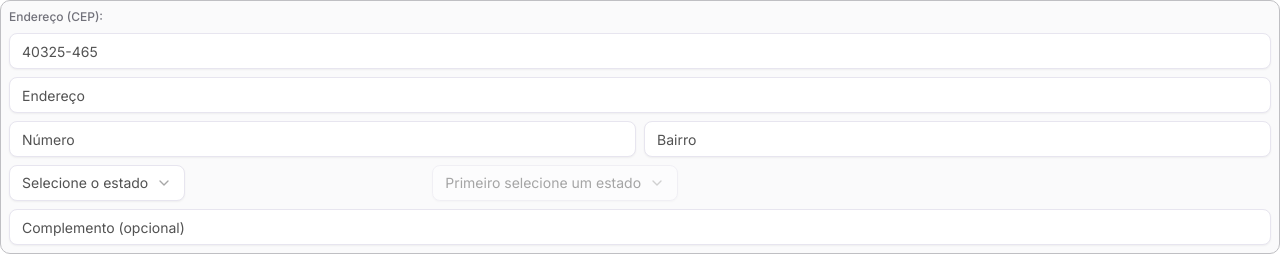
Test case: DeliveryAddressForm CEP › apagar o CEP torna estado e cidade editáveis
Type "40344530" into the field with placeholder "40325-465". click: (640,51)
box: x1=9 y1=33 x2=1271 y2=69
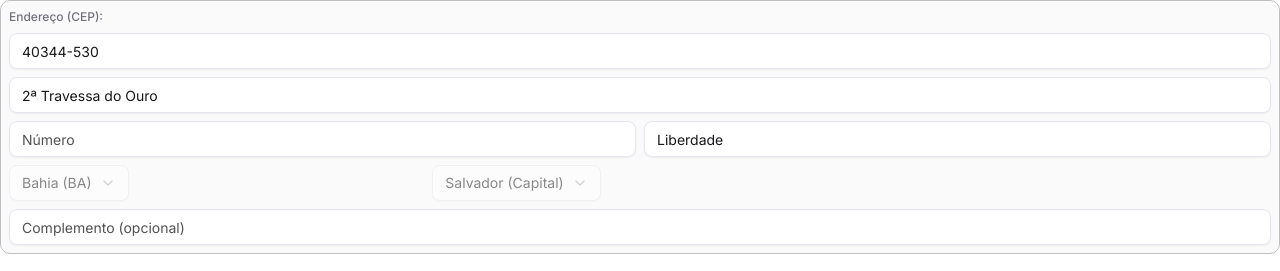
Expected: the dropdown labelled "Bahia (BA)" is disabled, x1=9 y1=165 x2=128 y2=201
Clear the 1st field with placeholder "40325-465". click: (640,51)
box: x1=9 y1=33 x2=1271 y2=69
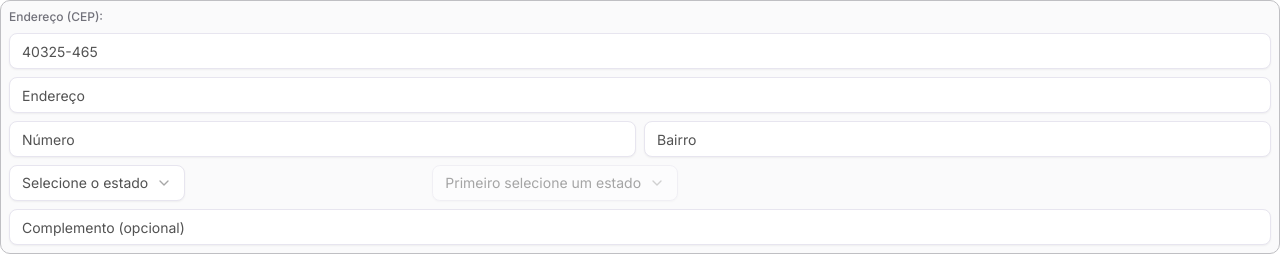
Expected: the dropdown labelled "Selecione o estado" is enabled, x1=9 y1=165 x2=185 y2=201
